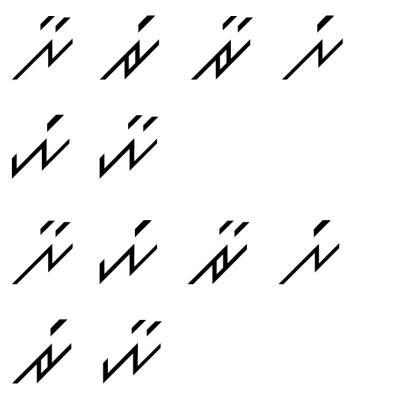lan: (7, 12, 81, 83), (12, 213, 77, 285)
lang: (272, 211, 348, 286), (280, 10, 347, 87)
ran: (180, 213, 256, 289), (190, 10, 254, 83)
rang: (9, 308, 79, 387), (96, 10, 167, 81)
yan: (88, 314, 171, 384), (90, 106, 167, 180)
yang: (93, 213, 162, 285), (8, 110, 73, 181)
